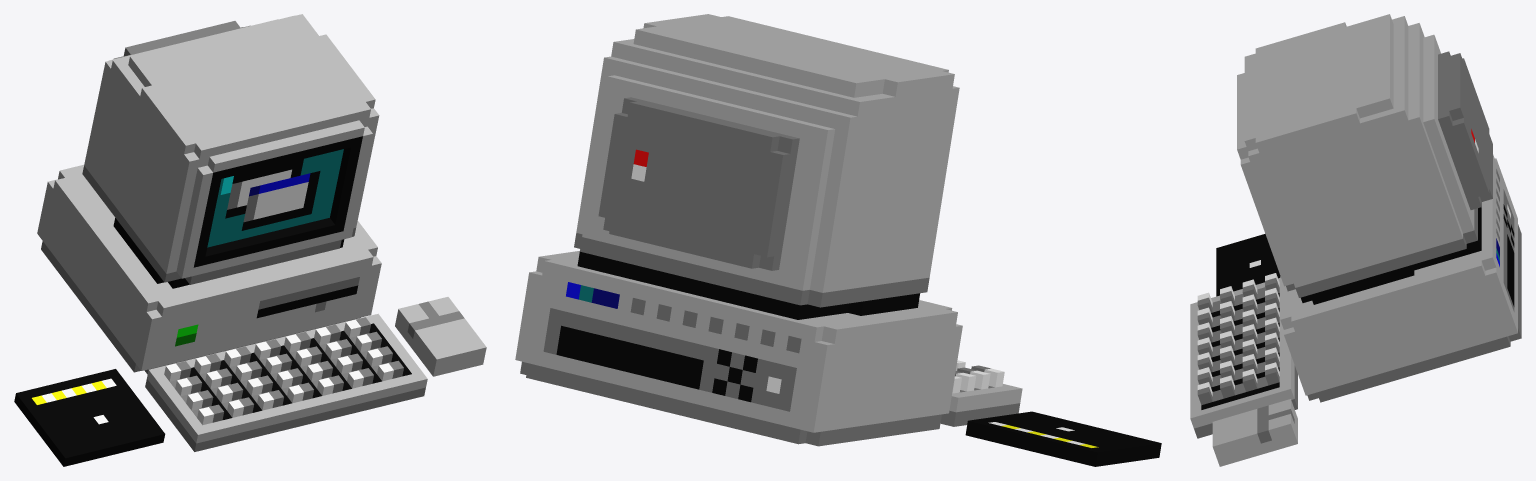
3 views of the same model, side by side, from view 1: azimuth 30°, elevation 25°; view 2: azimuth 150°, elevation 25°; view 3: azimuth 270°, elevation 25° (orthographic). The views are drawn at different scales.
Visible parts, largest first — view 1: Object_2; view 2: Object_2; view 3: Object_2.
Boxes of the visible parts, x1,y1,x2,y2 form: Object_2: [14, 14, 486, 466]; Object_2: [515, 14, 1161, 466]; Object_2: [1190, 14, 1521, 466].
Bounding box in the file's own units: 4.2 × 3.05 × 2.82.
Materials: 1 (1 with a texture image).
